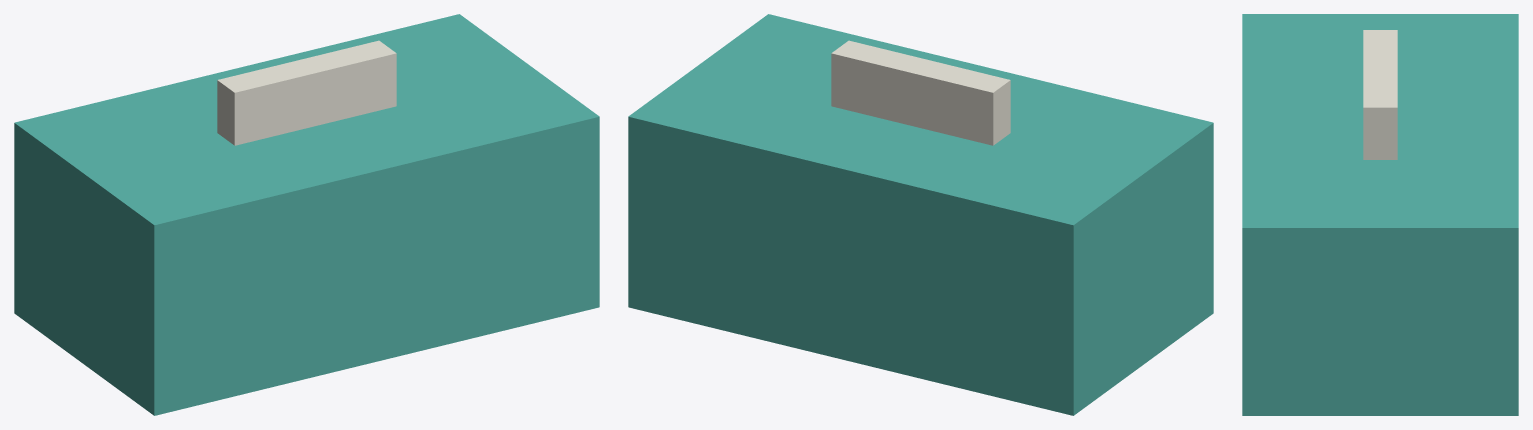
Rendered from supermarket-operations-tissue-box-60c96b21__26941.glb.
3 renders of one model, left to right at view 1: azimuth 30°, elevation 25°; view 2: azimuth 150°, elevation 25°; view 3: azimuth 270°, elevation 25°, orthographic.
Visible parts, largest first — view 1: tissue-box; view 2: tissue-box; view 3: tissue-box.
Boxes of the visible parts, left/top/right/bottom form: tissue-box: left=14, top=14, right=599, bottom=415; tissue-box: left=628, top=14, right=1213, bottom=415; tissue-box: left=1242, top=14, right=1518, bottom=415.
Bounding box in the file's own units: 0.22 × 0.115 × 0.12.
